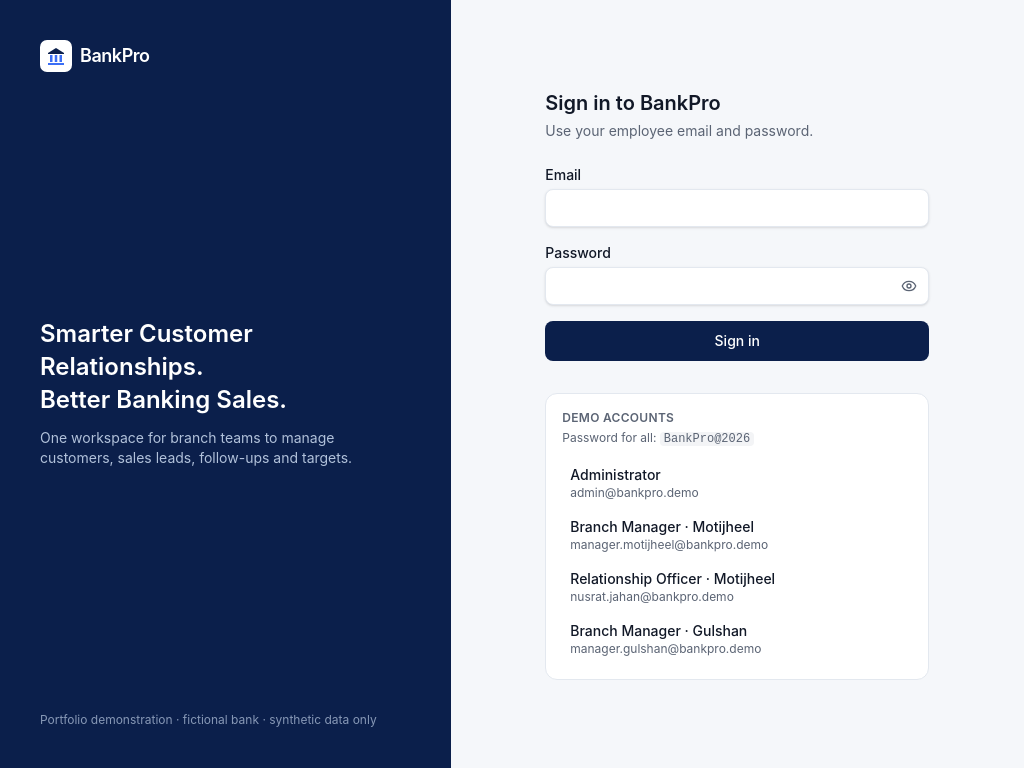
it: LoginPage › fills a demo account when clicked
Click the button "Branch Manager · Motijheel manager.motijheel@bankpro.demo": coordinates (737, 534) top-left (562, 510), bottom-right (912, 558)
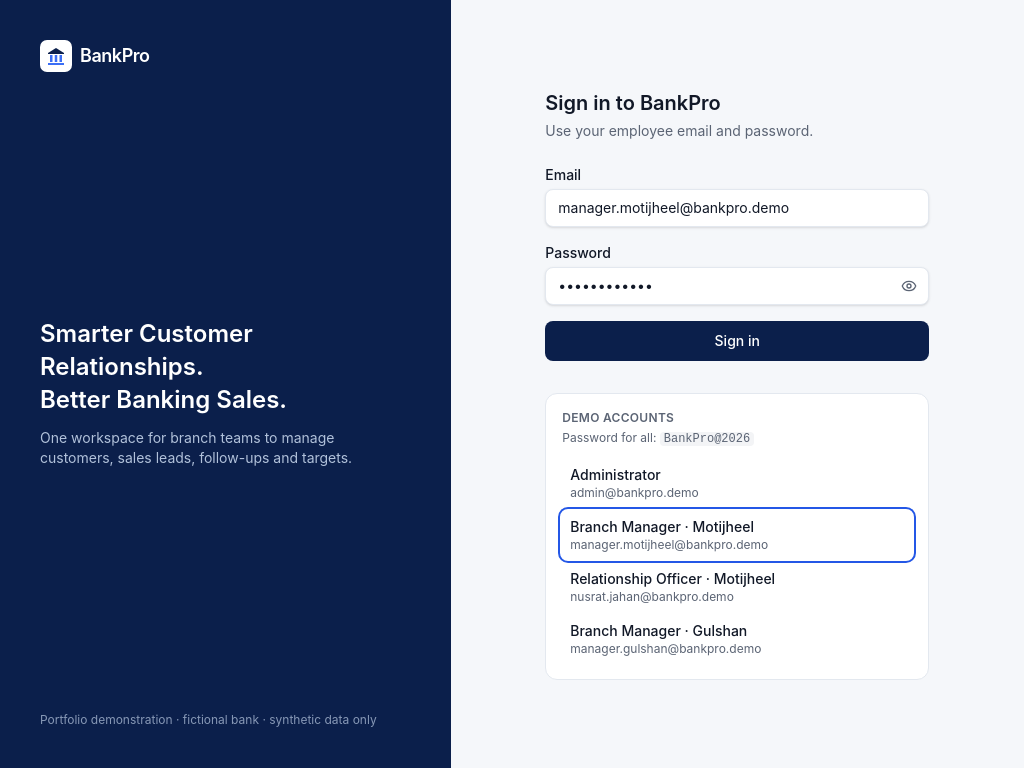
Now the field labelled "Email" holds "manager.motijheel@bankpro.demo", box top-left (545, 188), bottom-right (929, 226)
Now the password field labelled "Password" holds "BankPro@2026", box top-left (545, 266), bottom-right (929, 304)
